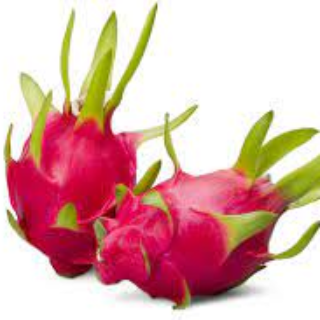thanh_long: (104, 173, 306, 302), (9, 79, 135, 278)
